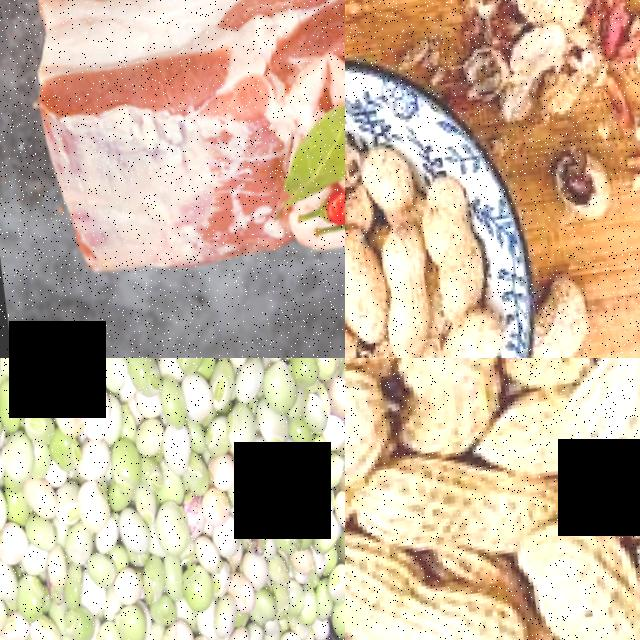peanuts: (358, 434, 523, 566), (512, 505, 640, 640), (382, 358, 515, 447), (418, 166, 499, 311), (375, 214, 448, 358), (345, 524, 430, 640), (345, 362, 402, 499), (345, 223, 400, 345), (530, 266, 601, 358)
peas: (0, 358, 345, 640)
pork belly: (5, 0, 345, 219)
